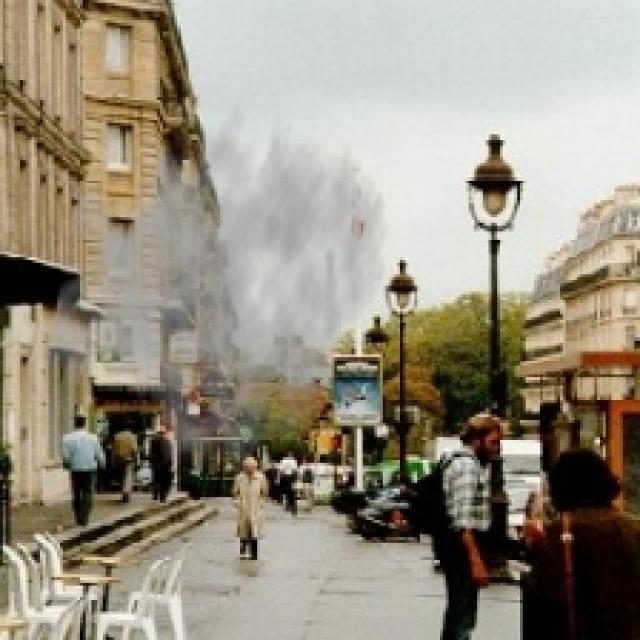Smoke: (42, 83, 392, 483)
